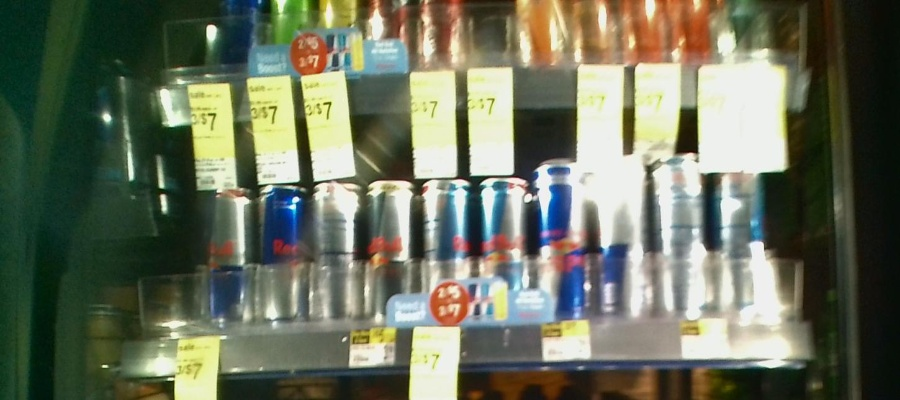bottle: (713, 141, 768, 318), (654, 146, 706, 317), (533, 157, 587, 318), (593, 152, 646, 314), (364, 174, 417, 321), (477, 169, 530, 316), (421, 174, 472, 323), (204, 178, 254, 329), (310, 176, 361, 323), (258, 180, 306, 321)
